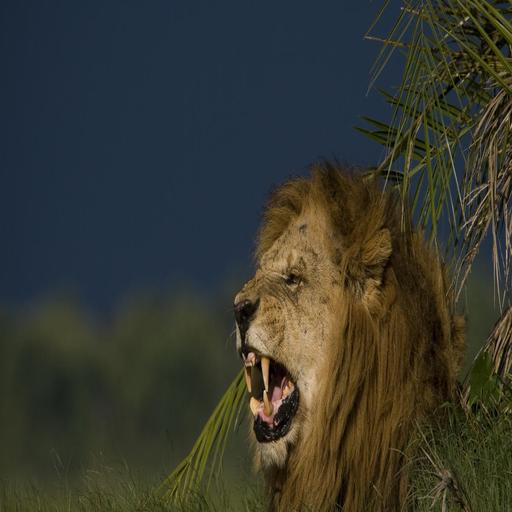Lion: (217, 147, 504, 512)
